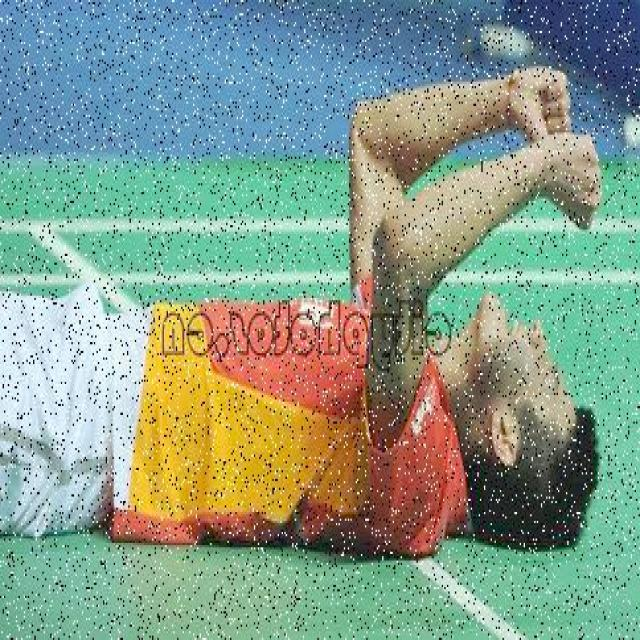fall: (1, 69, 606, 548)
